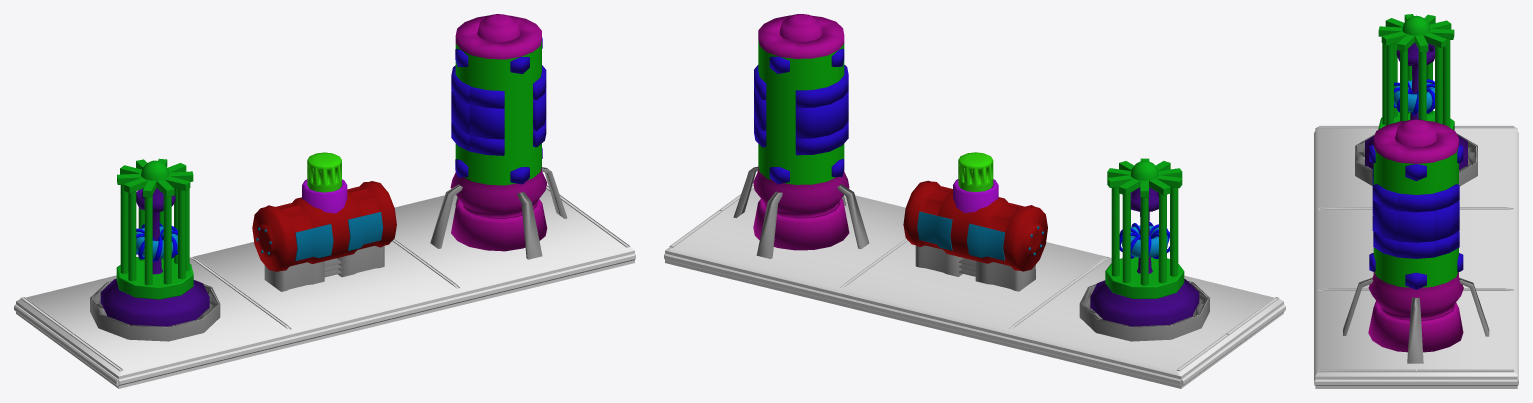
The model's file is Supporto_vitale_low.FBX.
The picture shows the model from 3 angles, left to right: view 1: azimuth 30°, elevation 25°; view 2: azimuth 150°, elevation 25°; view 3: azimuth 270°, elevation 25°; orthographic projection.
Visible parts, largest first — view 1: Base, Corpo_low, Gabbia_low, Center_low, Tubo_low, Acc_low, Sostegno_low, Sostegno gene, Sostegno pompa, Externi_low, Sostegno serba, Tappo_low (+2 smaller); view 2: Base, Corpo_low, Gabbia_low, Center_low, Tubo_low, Acc_low, Sostegno_low, Sostegno gene, Sostegno pompa, Externi_low, Sostegno serba, Tappo_low (+1 smaller); view 3: Base, Corpo_low, Acc_low, Gabbia_low, Center_low, Sostegno serba, Sostegno_low, Sostegno gene, Nucleo_low, Helice_low.
Part boxes in pixels (left/top/right/bottom): Base: left=14, top=185, right=635, bottom=388; Corpo_low: left=450, top=14, right=547, bottom=251; Gabbia_low: left=116, top=158, right=193, bottom=299; Center_low: left=455, top=40, right=541, bottom=185; Tubo_low: left=252, top=181, right=396, bottom=271; Acc_low: left=451, top=37, right=546, bottom=184; Sostegno_low: left=100, top=188, right=209, bottom=326; Sostegno gene: left=90, top=281, right=220, bottom=341; Sostegno pompa: left=264, top=246, right=384, bottom=291; Externi_low: left=295, top=212, right=383, bottom=260; Sostegno serba: left=430, top=167, right=567, bottom=259; Tappo_low: left=307, top=152, right=341, bottom=192; Base: left=664, top=185, right=1285, bottom=388; Corpo_low: left=753, top=14, right=849, bottom=250; Gabbia_low: left=1105, top=158, right=1184, bottom=298; Center_low: left=758, top=40, right=844, bottom=184; Tubo_low: left=903, top=180, right=1047, bottom=271; Acc_low: left=754, top=48, right=848, bottom=184; Sostegno_low: left=1090, top=187, right=1199, bottom=326; Sostegno gene: left=1079, top=281, right=1209, bottom=341; Sostegno pompa: left=915, top=245, right=1035, bottom=291; Externi_low: left=917, top=211, right=1004, bottom=260; Sostegno serba: left=733, top=166, right=869, bottom=258; Tappo_low: left=958, top=152, right=993, bottom=192; Base: left=1314, top=125, right=1518, bottom=388; Corpo_low: left=1368, top=119, right=1463, bottom=352; Acc_low: left=1369, top=144, right=1463, bottom=289; Gabbia_low: left=1378, top=14, right=1454, bottom=130; Center_low: left=1373, top=147, right=1458, bottom=287; Sostegno serba: left=1343, top=277, right=1489, bottom=363; Sostegno_low: left=1365, top=42, right=1467, bottom=169; Sostegno gene: left=1355, top=133, right=1477, bottom=186; Nucleo_low: left=1394, top=80, right=1434, bottom=112; Helice_low: left=1394, top=79, right=1434, bottom=114.
Bounding box in the file's own units: 4.96 × 2.08 × 1.72.
